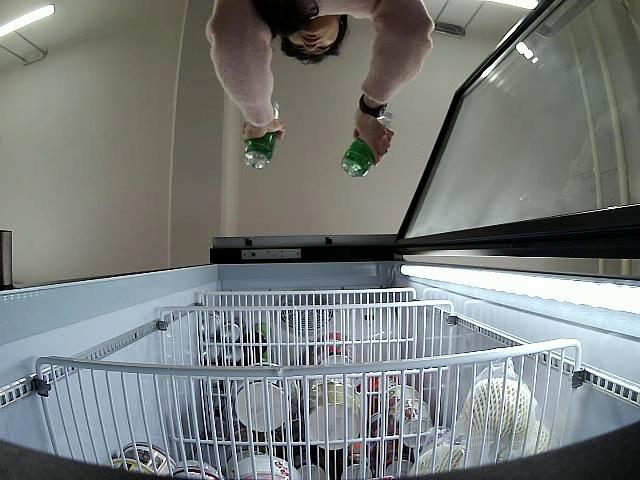00_hand: (354, 109, 394, 165)
18_trevi: (341, 111, 393, 179), (244, 103, 277, 168)
